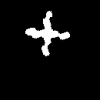single_crochet: (26, 11, 69, 55)
